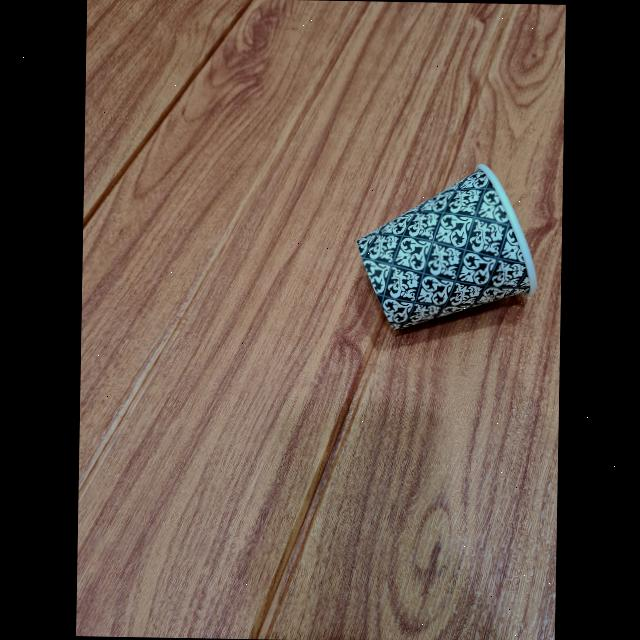trash: (353, 164, 540, 330)
